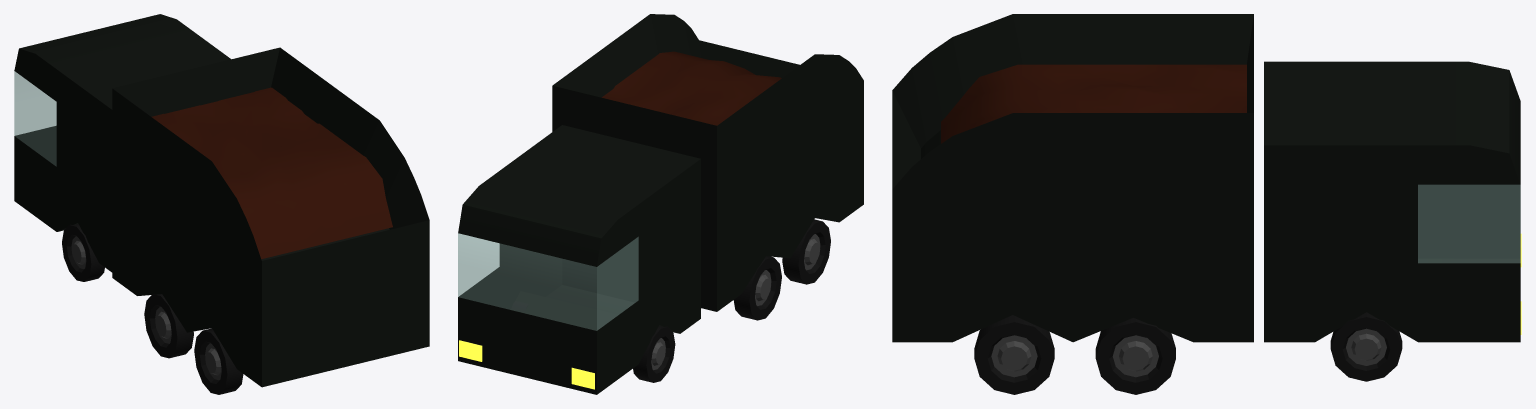
The model's file is camionbasura.FBX.
3 views of the same model, side by side, from view 1: azimuth 30°, elevation 25°; view 2: azimuth 150°, elevation 25°; view 3: azimuth 270°, elevation 25° (orthographic). The views are drawn at different scales.
Parts seen in each view (by area): view 1: Box004, Box001, Plane001, Cylinder009, Cylinder010, Cylinder005; view 2: Box001, Box004, Plane001, Cylinder009, Cylinder010, Cylinder005, Box003, Box002; view 3: Box004, Box001, Plane001, Cylinder007, Cylinder008, Cylinder004.
Boxes of the visible parts, <box> form: Box004: <box>112,47,429,387</box>; Box001: <box>14,14,230,272</box>; Plane001: <box>151,87,392,259</box>; Cylinder009: <box>194,328,243,394</box>; Cylinder010: <box>144,294,193,358</box>; Cylinder005: <box>62,224,104,281</box>; Box001: <box>458,125,700,394</box>; Box004: <box>552,14,863,311</box>; Plane001: <box>602,51,781,125</box>; Cylinder009: <box>782,219,830,284</box>; Cylinder010: <box>733,256,781,320</box>; Cylinder005: <box>633,326,675,382</box>; Box003: <box>571,367,594,389</box>; Box002: <box>459,340,482,361</box>; Box004: <box>892,14,1253,342</box>; Box001: <box>1264,61,1520,342</box>; Plane001: <box>941,64,1246,143</box>; Cylinder007: <box>974,315,1054,394</box>; Cylinder008: <box>1095,318,1175,394</box>; Cylinder004: <box>1330,312,1402,381</box>.
Bounding box in the file's own units: 25.81 × 33.55 × 68.22.
